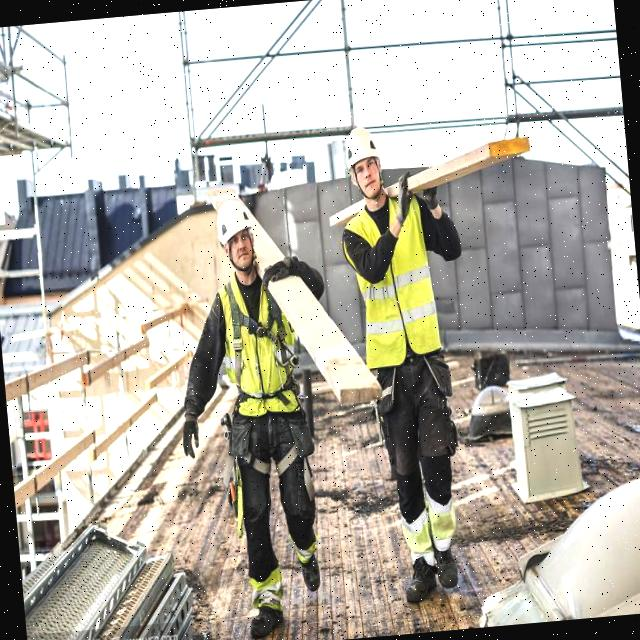boots: (396, 548, 442, 613), (236, 590, 294, 640), (292, 544, 330, 602), (432, 542, 466, 594)
helmet: (210, 193, 263, 256), (336, 120, 388, 178)
vest: (332, 180, 459, 380), (207, 255, 316, 425)
